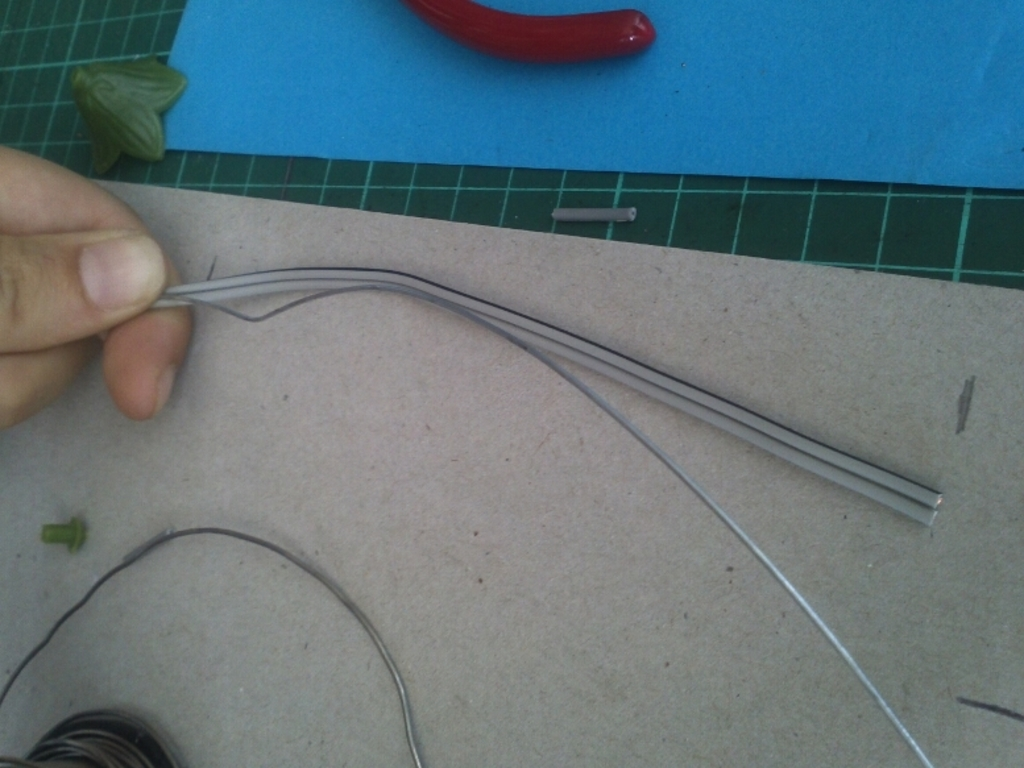person: (0, 136, 199, 459)
